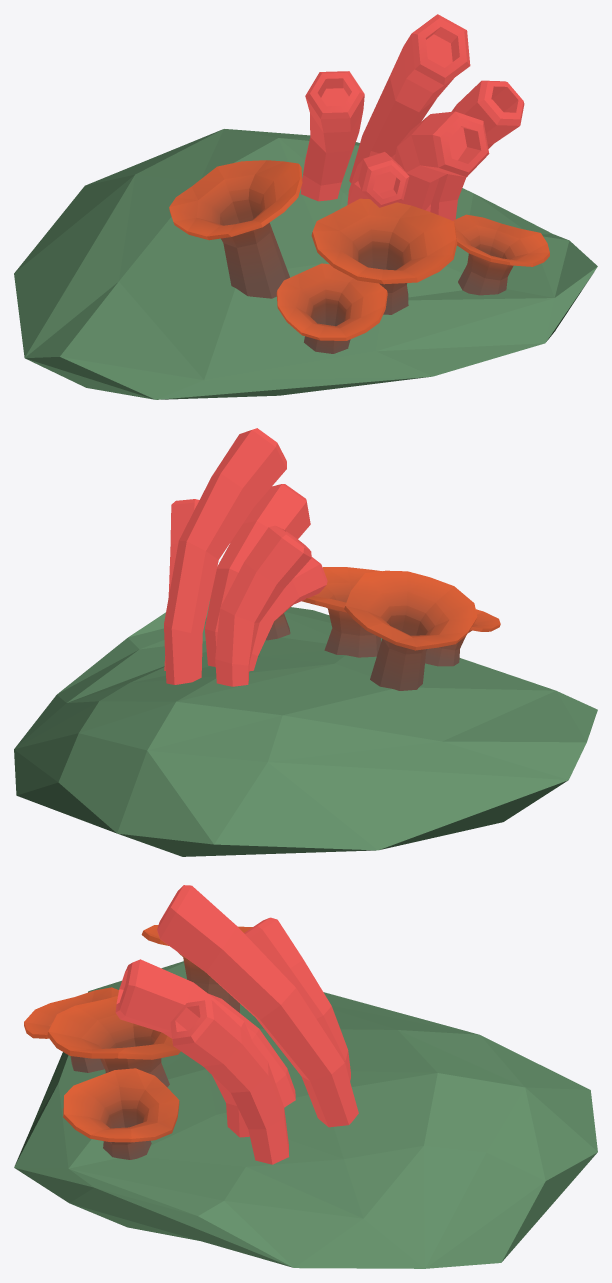
File: Coralls_006.glb
3 views of the same model, one above another, from view 1: azimuth 30°, elevation 25°; view 2: azimuth 150°, elevation 25°; view 3: azimuth 270°, elevation 25° (orthographic). The views are drawn at different scales.
Parts seen in each view (by area): view 1: Coralls_006; view 2: Coralls_006; view 3: Coralls_006.
Part boxes in pixels (x1,y1,x2,y2): Coralls_006: [14, 14, 597, 399]; Coralls_006: [14, 428, 597, 856]; Coralls_006: [14, 885, 597, 1268].
Size of the model in its own units: 2.06 by 1.25 by 1.88.
2 materials, 2 textured.
